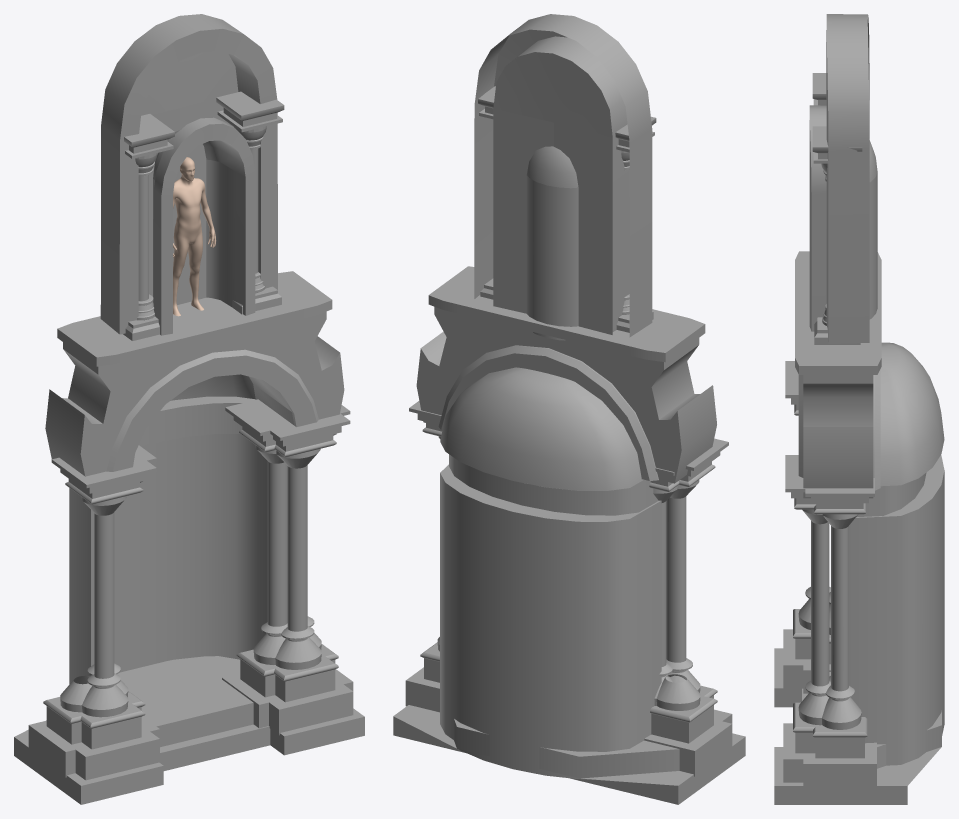
Rendered from SM_centrepeice_01.fbx.
3 views of the same model, side by side, from view 1: azimuth 30°, elevation 25°; view 2: azimuth 150°, elevation 25°; view 3: azimuth 270°, elevation 25° (orthographic).
Parts seen in each view (by area): view 1: polySurface1019; view 2: polySurface1019; view 3: polySurface1019.
Boxes of the visible parts, x1,y1,x2,y2 form: polySurface1019: (14, 14, 364, 804); polySurface1019: (393, 14, 745, 804); polySurface1019: (774, 14, 944, 804).
Bounding box in the file's own units: 12.63 × 30.18 × 6.5.
